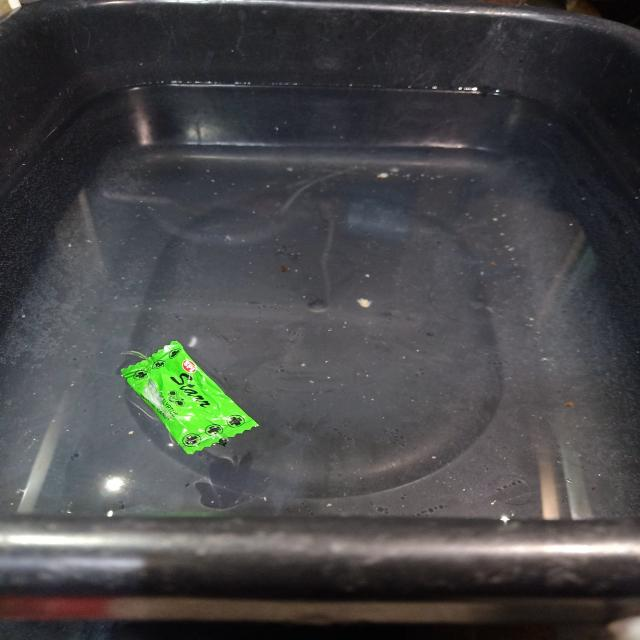Plastic Wrapper: (106, 332, 280, 462)
